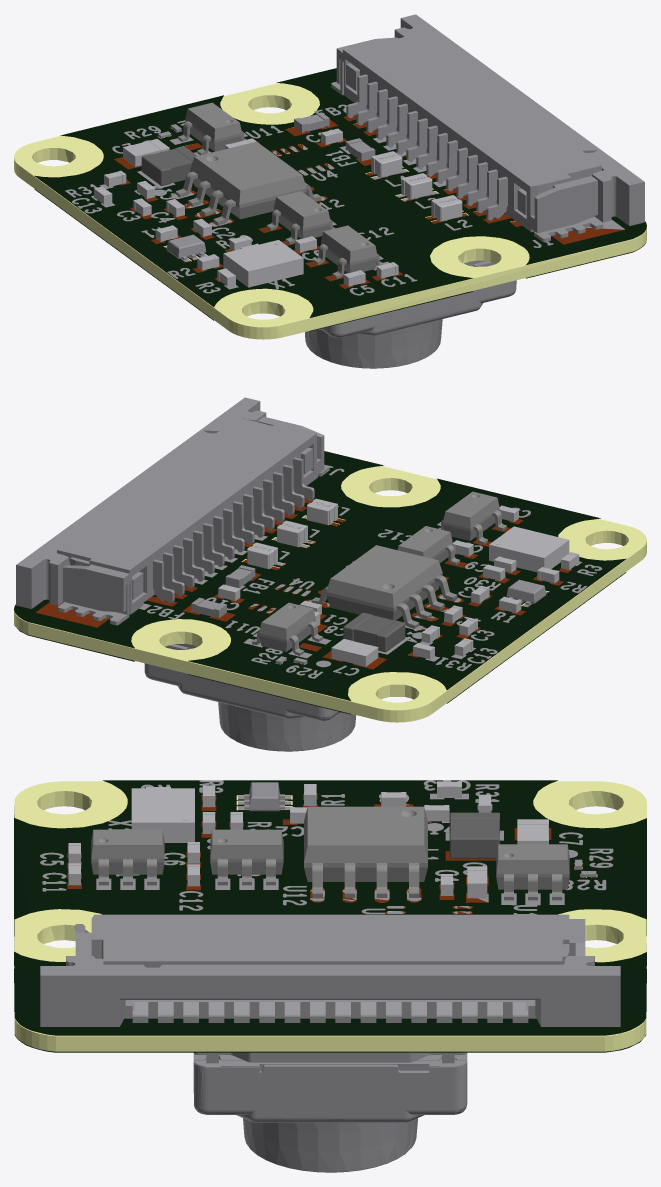
File: raspberry-pi-camera-3-wide.glb
3 renders of one model, top to bottom at view 1: azimuth 30°, elevation 25°; view 2: azimuth 150°, elevation 25°; view 3: azimuth 270°, elevation 25°, orthographic. The views are drawn at different scales.
Visible parts, largest first — view 1: raspberry-pi-camera-3-wide; view 2: raspberry-pi-camera-3-wide; view 3: raspberry-pi-camera-3-wide.
Part boxes in pixels (x1,y1,x2,y2): raspberry-pi-camera-3-wide: (14,14,646,368); raspberry-pi-camera-3-wide: (14,397,646,751); raspberry-pi-camera-3-wide: (14,780,646,1172).
Bounding box in the file's own units: 23.83 × 11.4 × 25.
